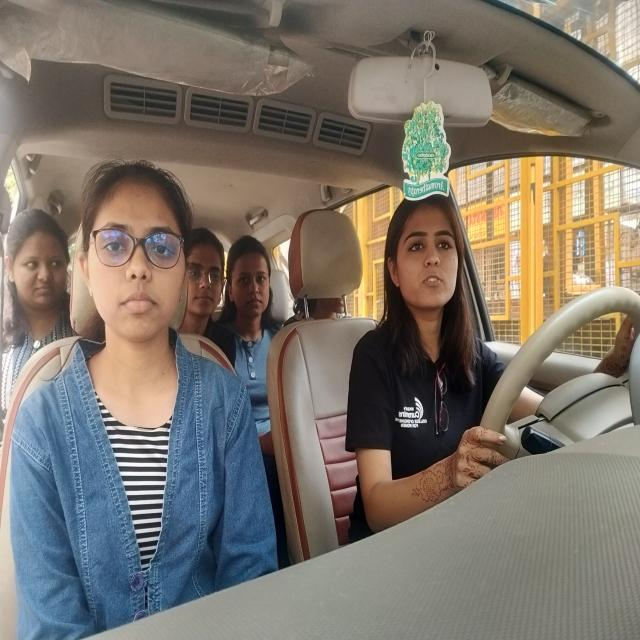person: (83, 154, 195, 340), (386, 191, 467, 324), (4, 208, 69, 315), (227, 229, 278, 335), (186, 214, 226, 330)
